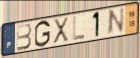1: (91, 10, 101, 39)
B: (16, 23, 33, 52)
G: (34, 19, 52, 48)
L: (72, 15, 86, 42)
N: (106, 6, 126, 37)
X: (52, 16, 70, 44)
